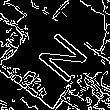N_NW: (25, 19, 87, 82)
